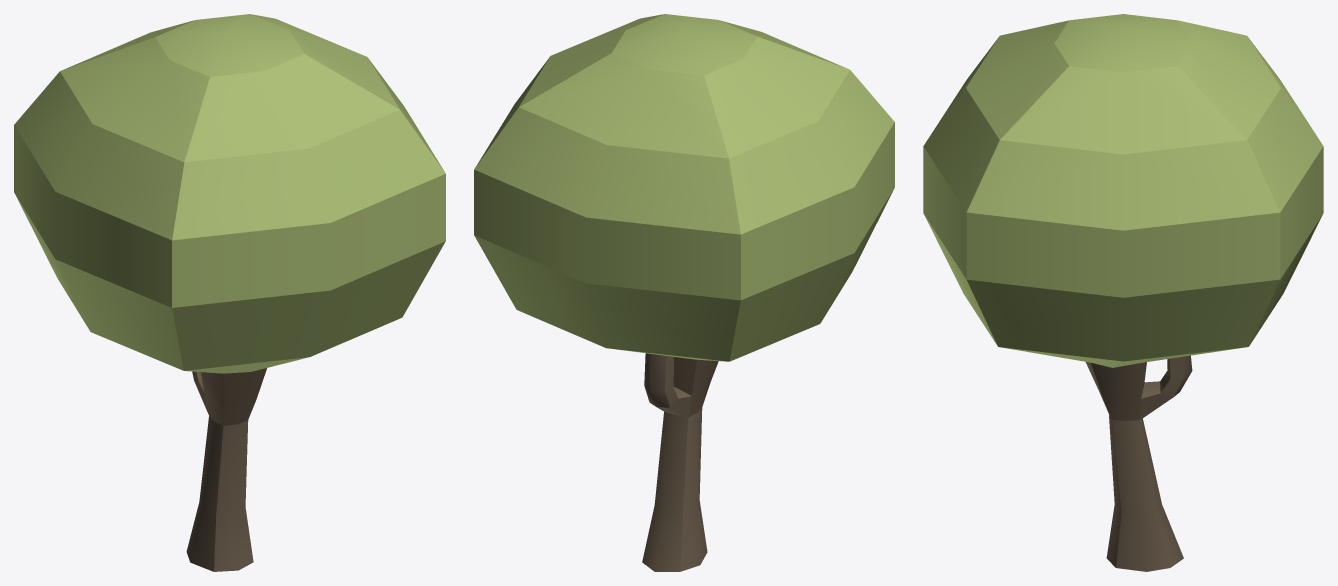
File: arbre1.fbx
The picture shows the model from 3 angles, left to right: view 1: azimuth 30°, elevation 25°; view 2: azimuth 150°, elevation 25°; view 3: azimuth 270°, elevation 25°; orthographic projection. The views are drawn at different scales.
Parts seen in each view (by area): view 1: arbre3; view 2: arbre3; view 3: arbre3.
Part boxes in pixels (x1,y1,x2,y2): arbre3: (14, 14, 445, 571); arbre3: (474, 14, 894, 571); arbre3: (923, 14, 1323, 571).
Bounding box in the file's own units: 2.74 × 4 × 2.74.
